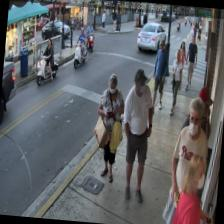person: (161, 94, 211, 224), (116, 67, 156, 201), (91, 72, 127, 182), (170, 152, 219, 224), (150, 38, 170, 112), (168, 48, 184, 118)
